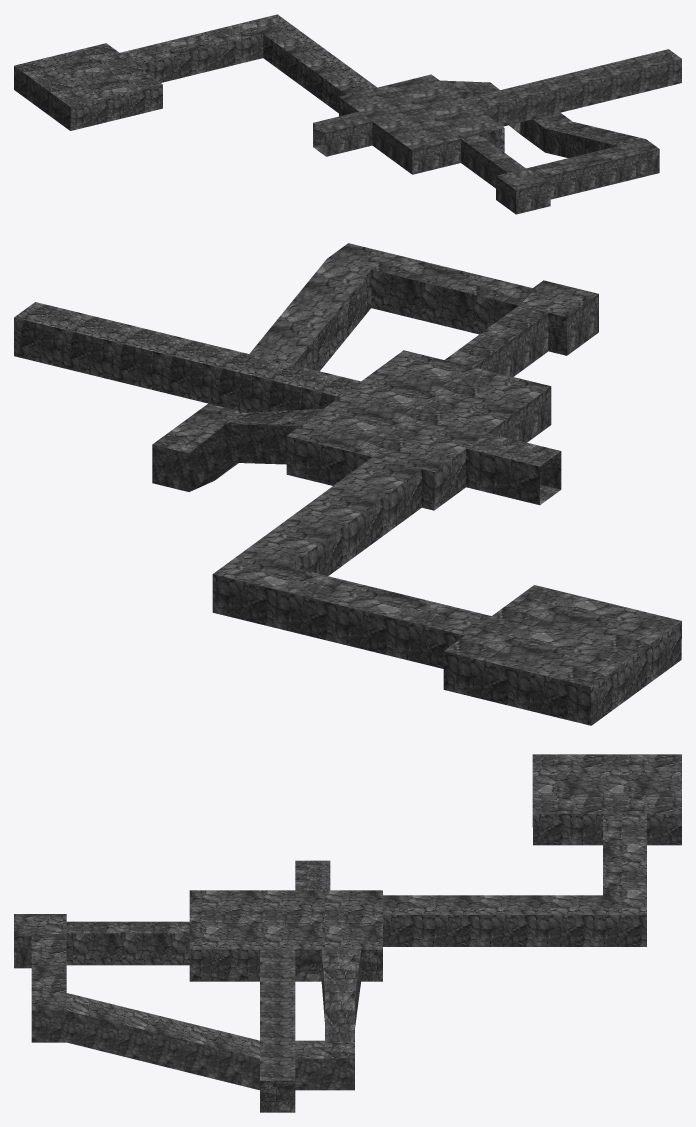
The model's file is location2.fbx.
3 views of the same model, one above another, from view 1: azimuth 30°, elevation 25°; view 2: azimuth 150°, elevation 25°; view 3: azimuth 270°, elevation 25° (orthographic). The views are drawn at different scales.
Parts seen in each view (by area): view 1: Cube; view 2: Cube; view 3: Cube.
Boxes of the visible parts, x1,y1,x2,y2 form: Cube: (14, 14, 681, 214); Cube: (14, 243, 681, 725); Cube: (14, 754, 681, 1112).
Size of the model in its own units: 4399 by 500 by 3800.
Materials: 1 (1 with a texture image).
